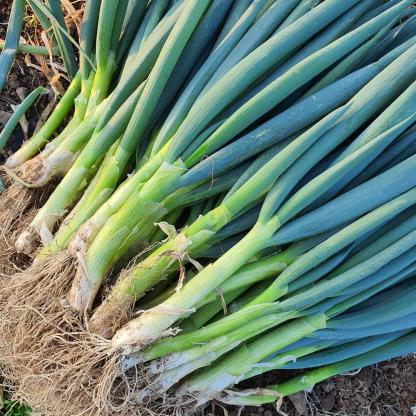green onion: (35, 0, 415, 337), (43, 49, 416, 356), (89, 55, 415, 382), (136, 111, 416, 401), (23, 0, 194, 321), (3, 0, 194, 226)
